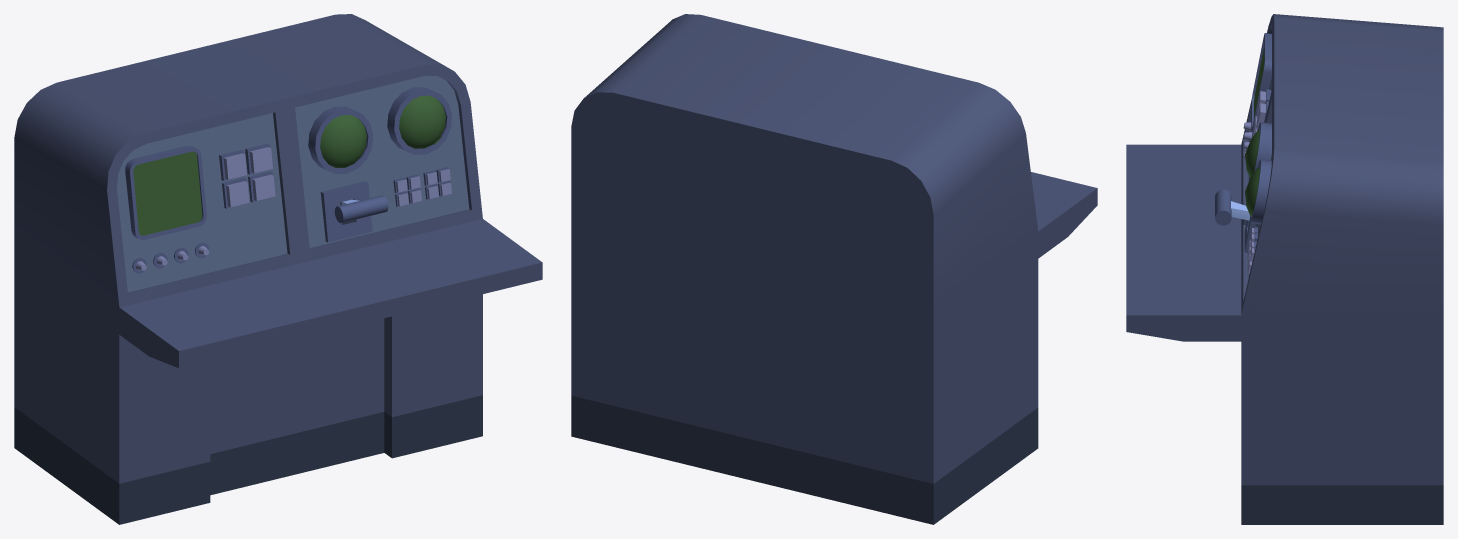
Rendered from Console.fbx.
3 views of the same model, side by side, from view 1: azimuth 30°, elevation 25°; view 2: azimuth 150°, elevation 25°; view 3: azimuth 270°, elevation 25° (orthographic). The views are drawn at different scales.
Visible parts, largest first — view 1: Cube.013, Cube.017, Cylinder.002, Cylinder.005, Cube.050, Cylinder.003, Cylinder, Cube.039, Cube.038, Cube.040, Cube.041; view 2: Cube.013; view 3: Cube.013, Cylinder.005, Cube.017, Cylinder.002, Cylinder.003.
Part boxes in pixels (box(x1,y1,x2,y2)): Cube.013: box(14, 14, 542, 524); Cube.017: box(125, 145, 206, 239); Cylinder.002: box(308, 106, 373, 174); Cylinder.005: box(387, 87, 452, 154); Cube.050: box(320, 181, 372, 242); Cylinder.003: box(334, 195, 388, 223); Cylinder: box(132, 242, 209, 273); Cube.039: box(245, 143, 272, 174); Cube.038: box(219, 150, 246, 180); Cube.040: box(222, 177, 249, 208); Cube.041: box(248, 171, 275, 202); Cube.013: box(571, 14, 1097, 524); Cube.013: box(1126, 14, 1443, 524); Cylinder.005: box(1245, 159, 1271, 224); Cube.017: box(1251, 33, 1271, 131); Cylinder.002: box(1245, 122, 1271, 178); Cylinder.003: box(1215, 189, 1249, 225).
Bounding box in the file's own units: 200 × 194 × 157.
